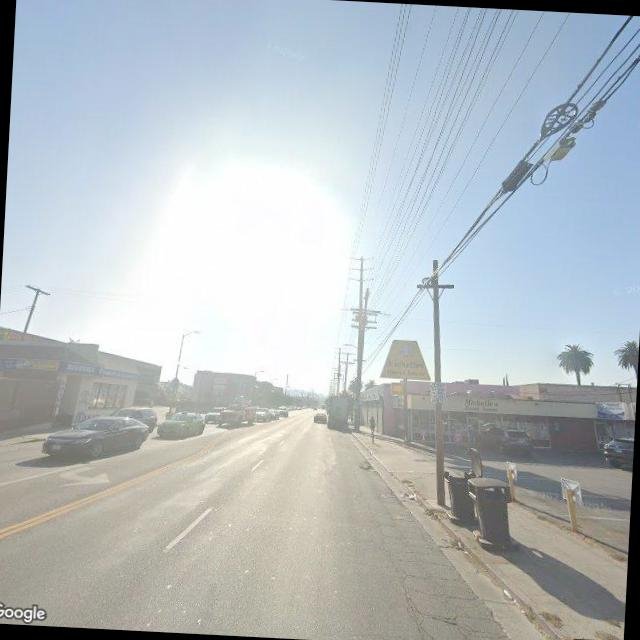crack: (370, 530, 523, 640)
